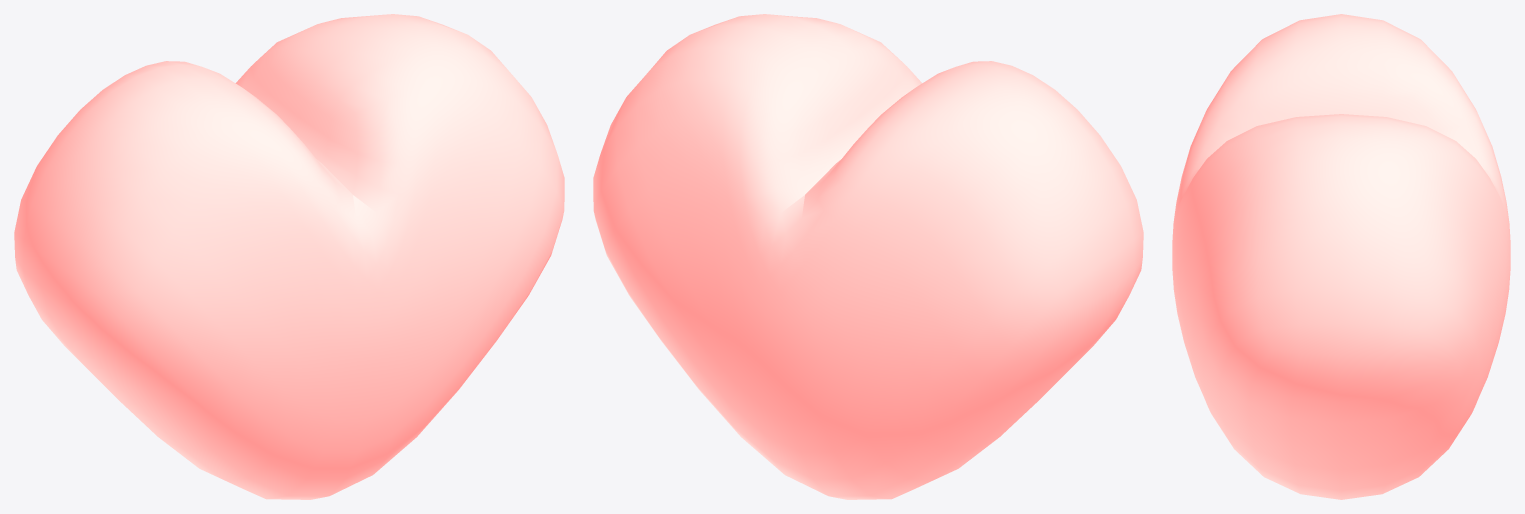
The model's file is Heart_-_Updated.fbx.
3 views of the same model, side by side, from view 1: azimuth 30°, elevation 25°; view 2: azimuth 150°, elevation 25°; view 3: azimuth 270°, elevation 25° (orthographic). The views are drawn at different scales.
Visible parts, largest first — view 1: Heart; view 2: Heart; view 3: Heart.
Part boxes in pixels (<box>): Heart: <box>14,14,564,499</box>; Heart: <box>593,14,1143,499</box>; Heart: <box>1172,14,1510,499</box>.
Size of the model in its own units: 393 by 331 by 246.
